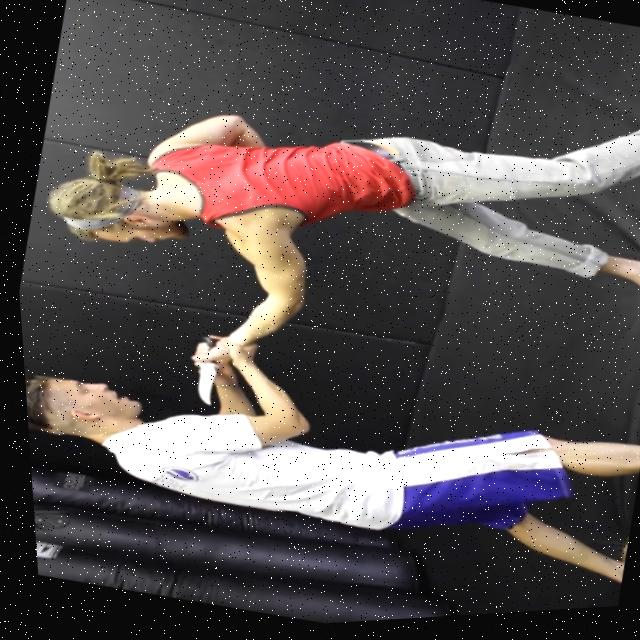knife: (177, 361, 215, 410)
